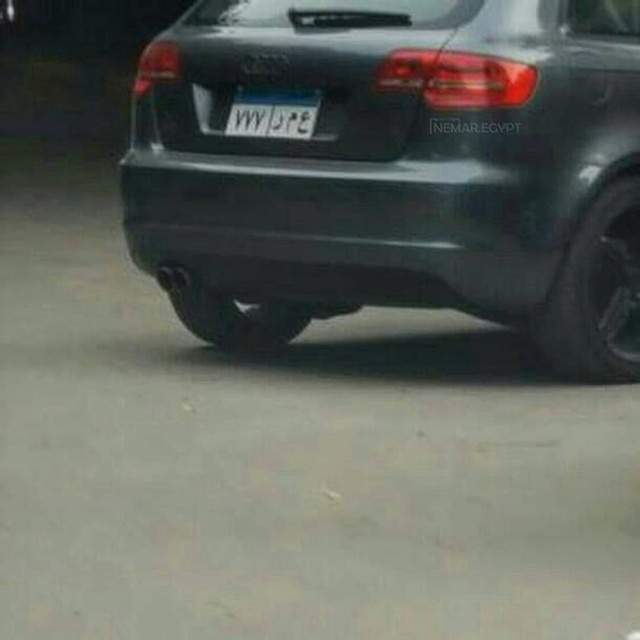License Plate: (221, 80, 326, 142)
